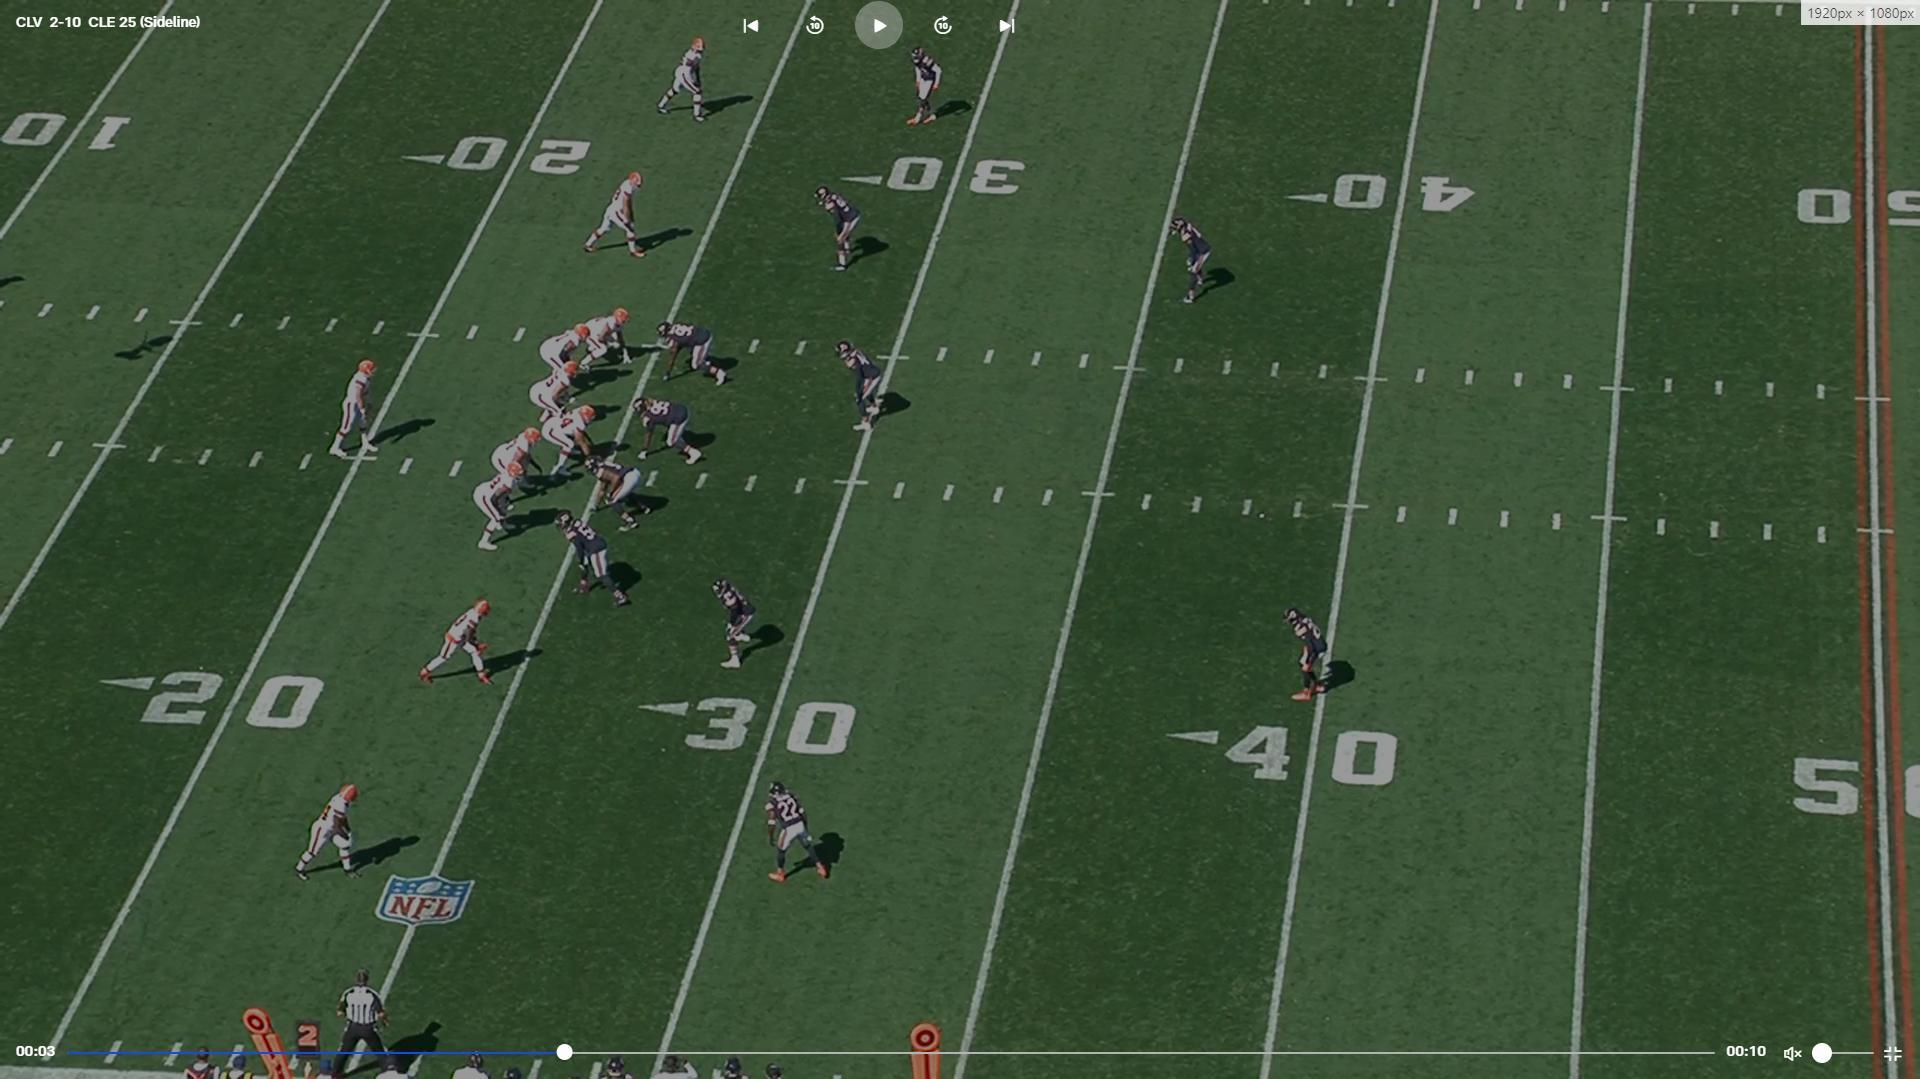player: (758, 781, 831, 890), (292, 778, 366, 885), (412, 597, 497, 690), (556, 510, 632, 607), (584, 170, 652, 262), (1281, 602, 1339, 709), (324, 358, 380, 462), (630, 394, 702, 468), (589, 454, 660, 529), (837, 336, 891, 434), (655, 35, 712, 127), (661, 319, 734, 388), (715, 573, 761, 672), (818, 185, 868, 276), (544, 406, 603, 479), (477, 472, 527, 555), (1172, 212, 1216, 306), (546, 325, 603, 391), (580, 310, 637, 373), (908, 46, 945, 131), (489, 428, 538, 489), (530, 364, 582, 421)
ref: (334, 965, 392, 1054)
